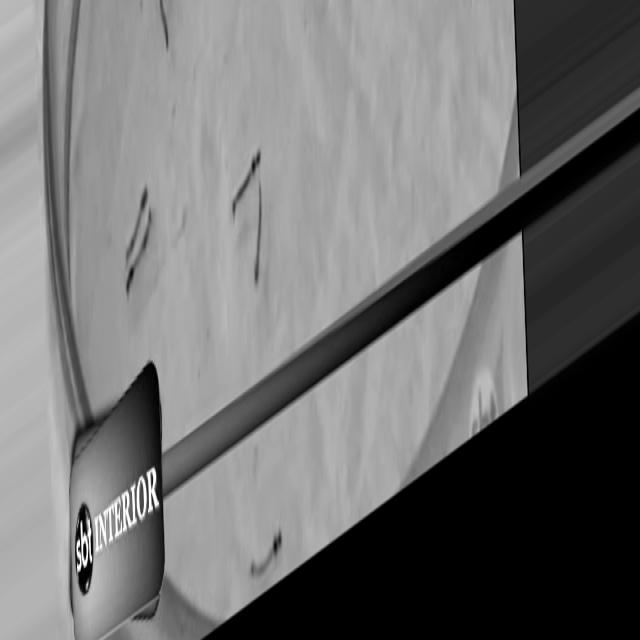larvas: (124, 205, 160, 298), (123, 181, 152, 265), (253, 532, 284, 576), (235, 156, 262, 204), (253, 186, 265, 284), (157, 0, 170, 48)
